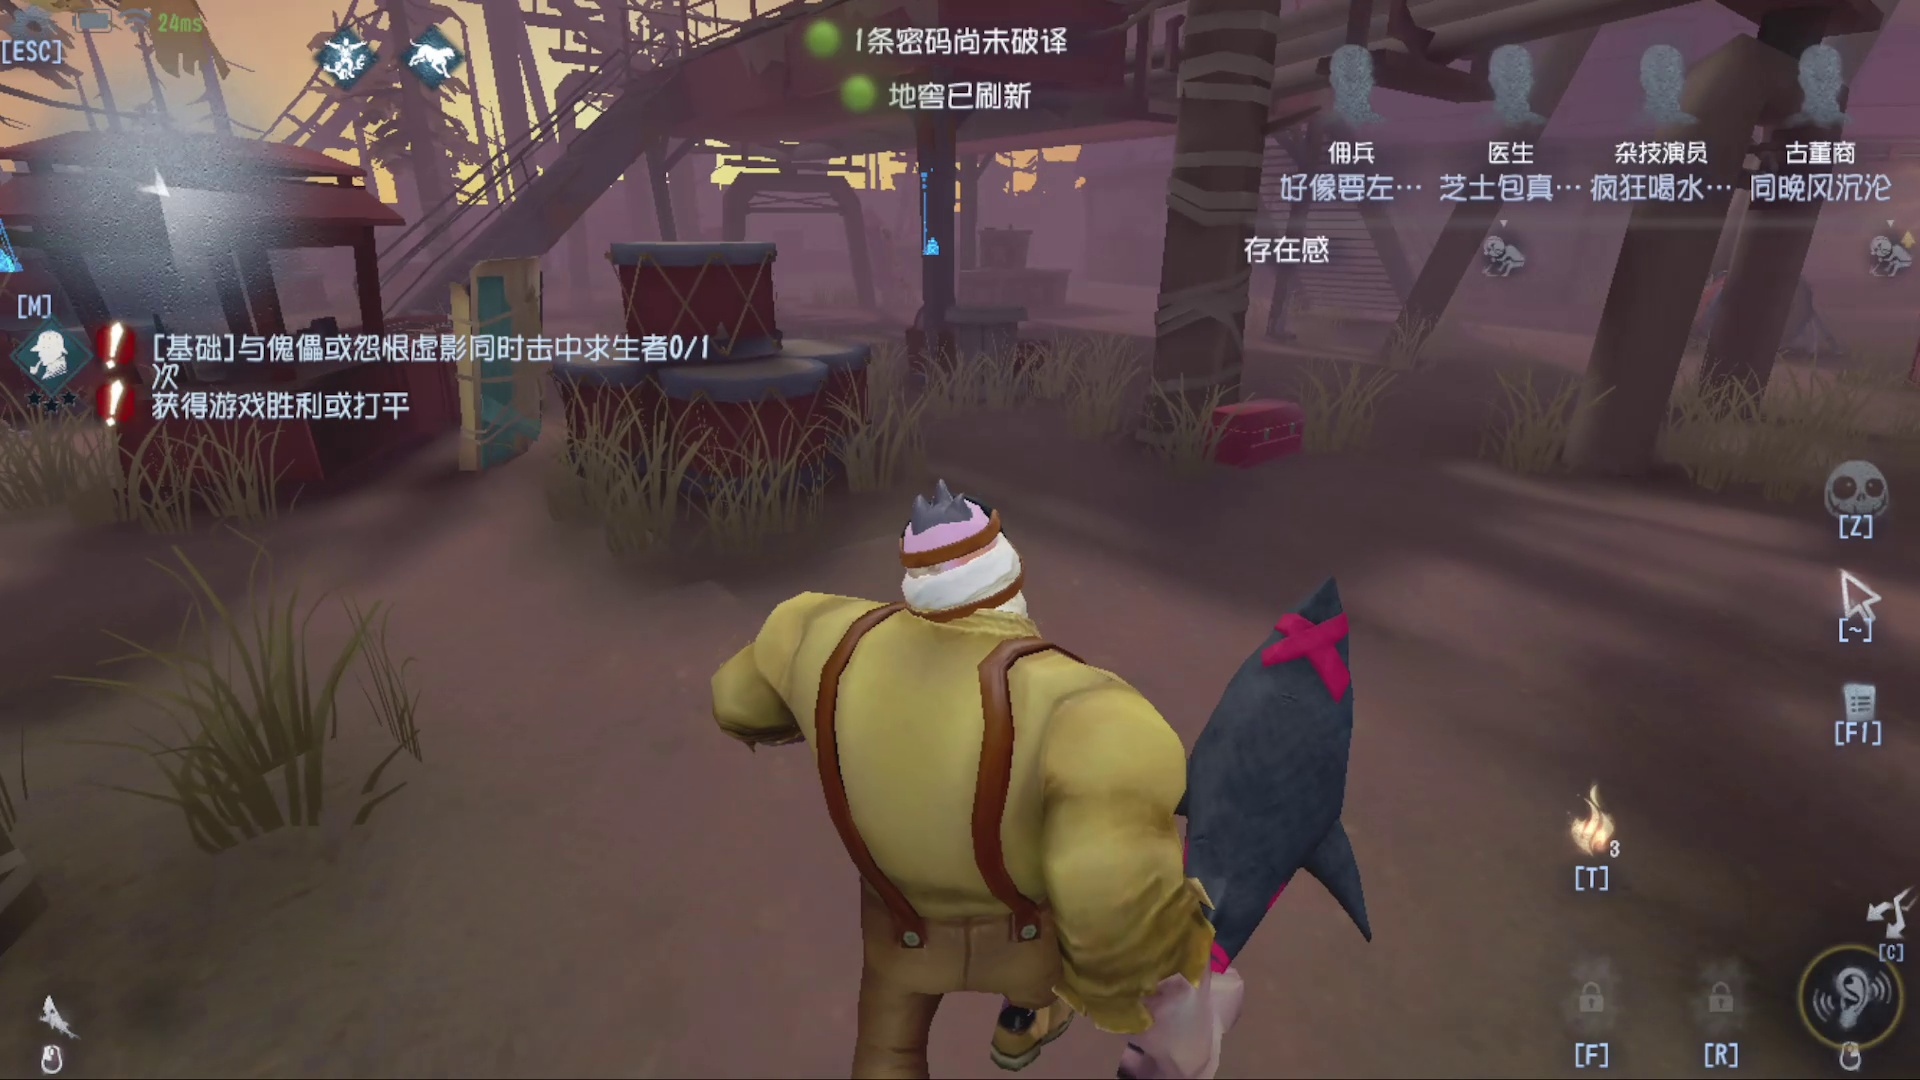密码机: (902, 160, 944, 291)
木板: (431, 247, 568, 469)
